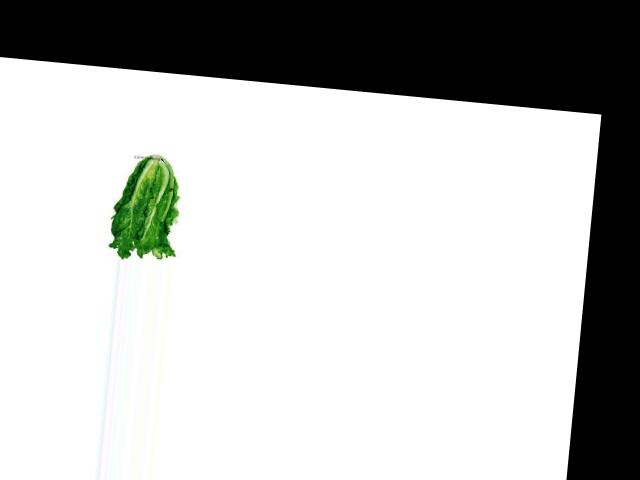lettuce: (107, 154, 186, 264)
